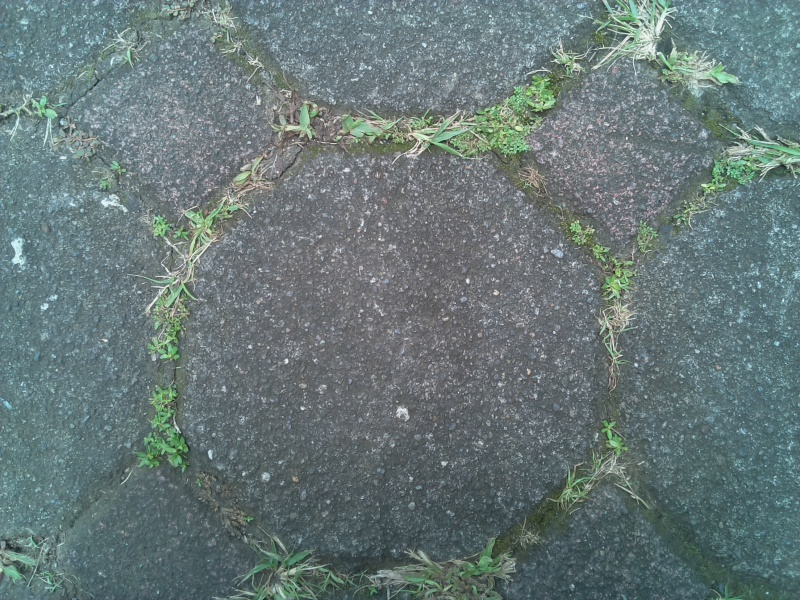Weed: (462, 79, 557, 164), (553, 418, 635, 511), (567, 219, 657, 301), (377, 549, 517, 600), (132, 377, 195, 480), (142, 266, 198, 364), (241, 547, 338, 600), (593, 304, 641, 393), (658, 48, 736, 99), (724, 124, 800, 176), (336, 103, 407, 157), (605, 4, 667, 65), (174, 200, 235, 258), (268, 97, 325, 154), (1, 527, 55, 587), (403, 116, 469, 159), (12, 93, 64, 131), (145, 212, 192, 251), (107, 28, 145, 66), (230, 155, 268, 192)
